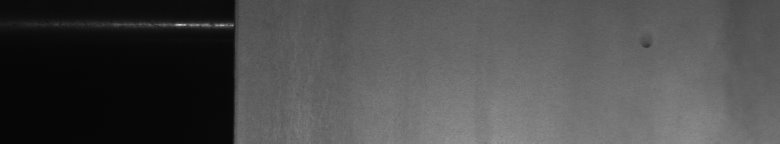fi: (641, 36, 656, 56)
